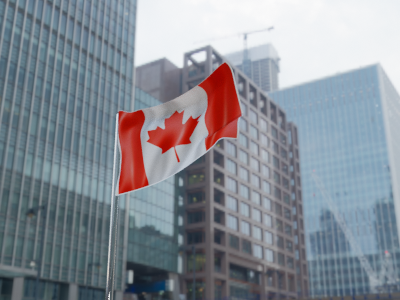Canada flag: (115, 63, 239, 195)
